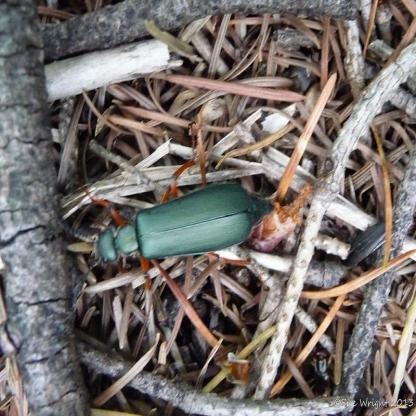beetle: (59, 167, 282, 298)
